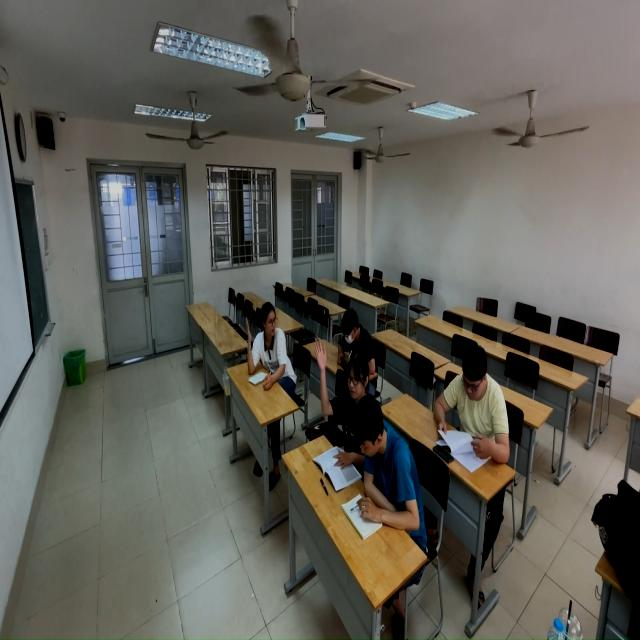raise_hand: (312, 338, 377, 467), (246, 289, 302, 388)
read: (344, 398, 425, 560), (435, 329, 509, 473), (335, 305, 378, 379)
